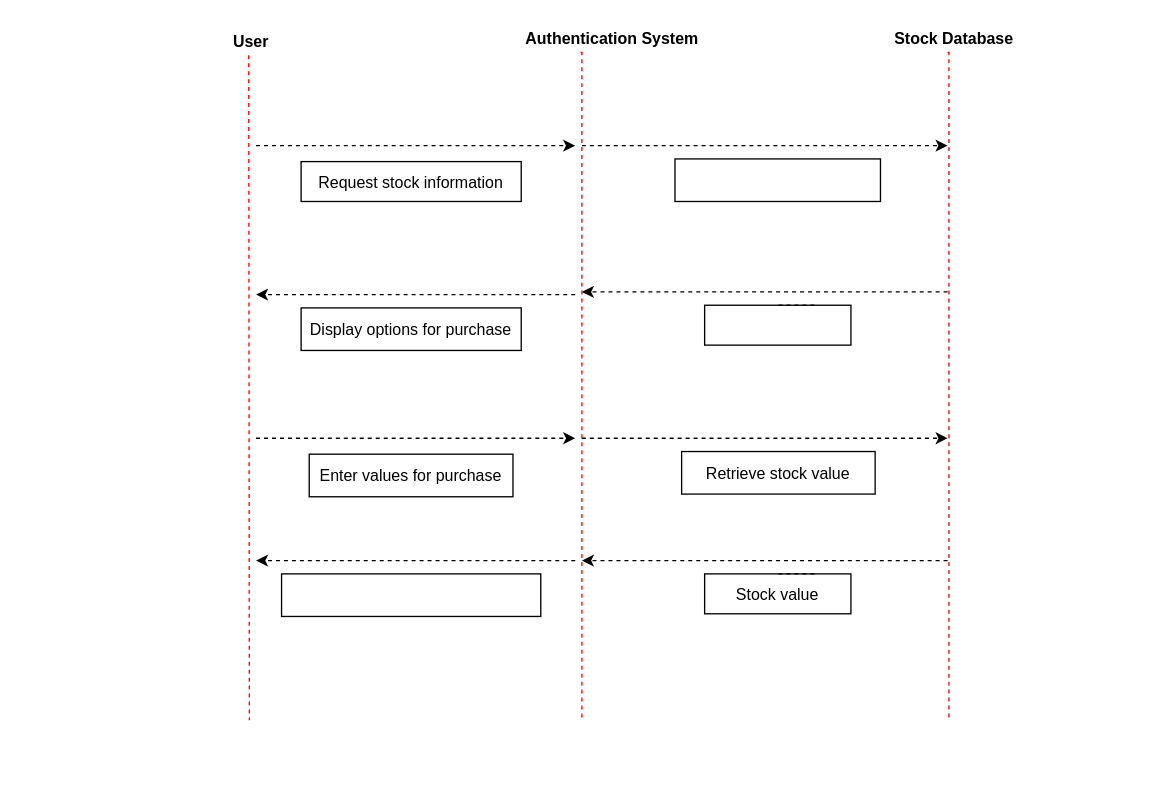
Some shapes in this 1162 by 803 pixel diagram are drawn without their labels. The shapes that lost their labels are listed below. From the top down, each one's centre as x and y in pixels, then its label:
At point 777,179: "Retrieve stock information".
At point 777,324: "Stock information".
At point 410,594: "Display value of purchased stock".
